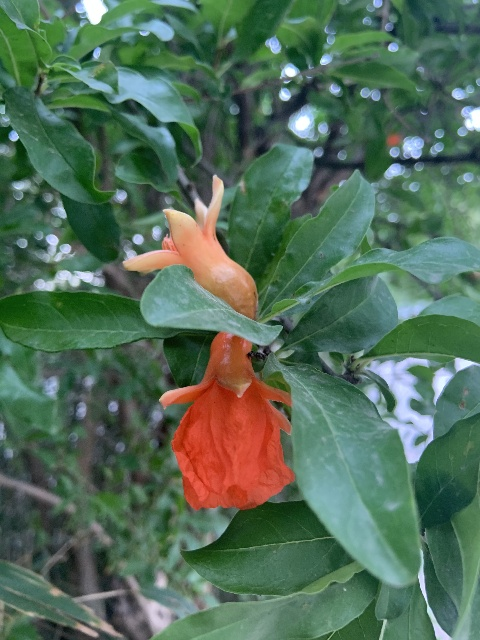early-fruit: (121, 175, 256, 323)
flower: (160, 330, 293, 510)
